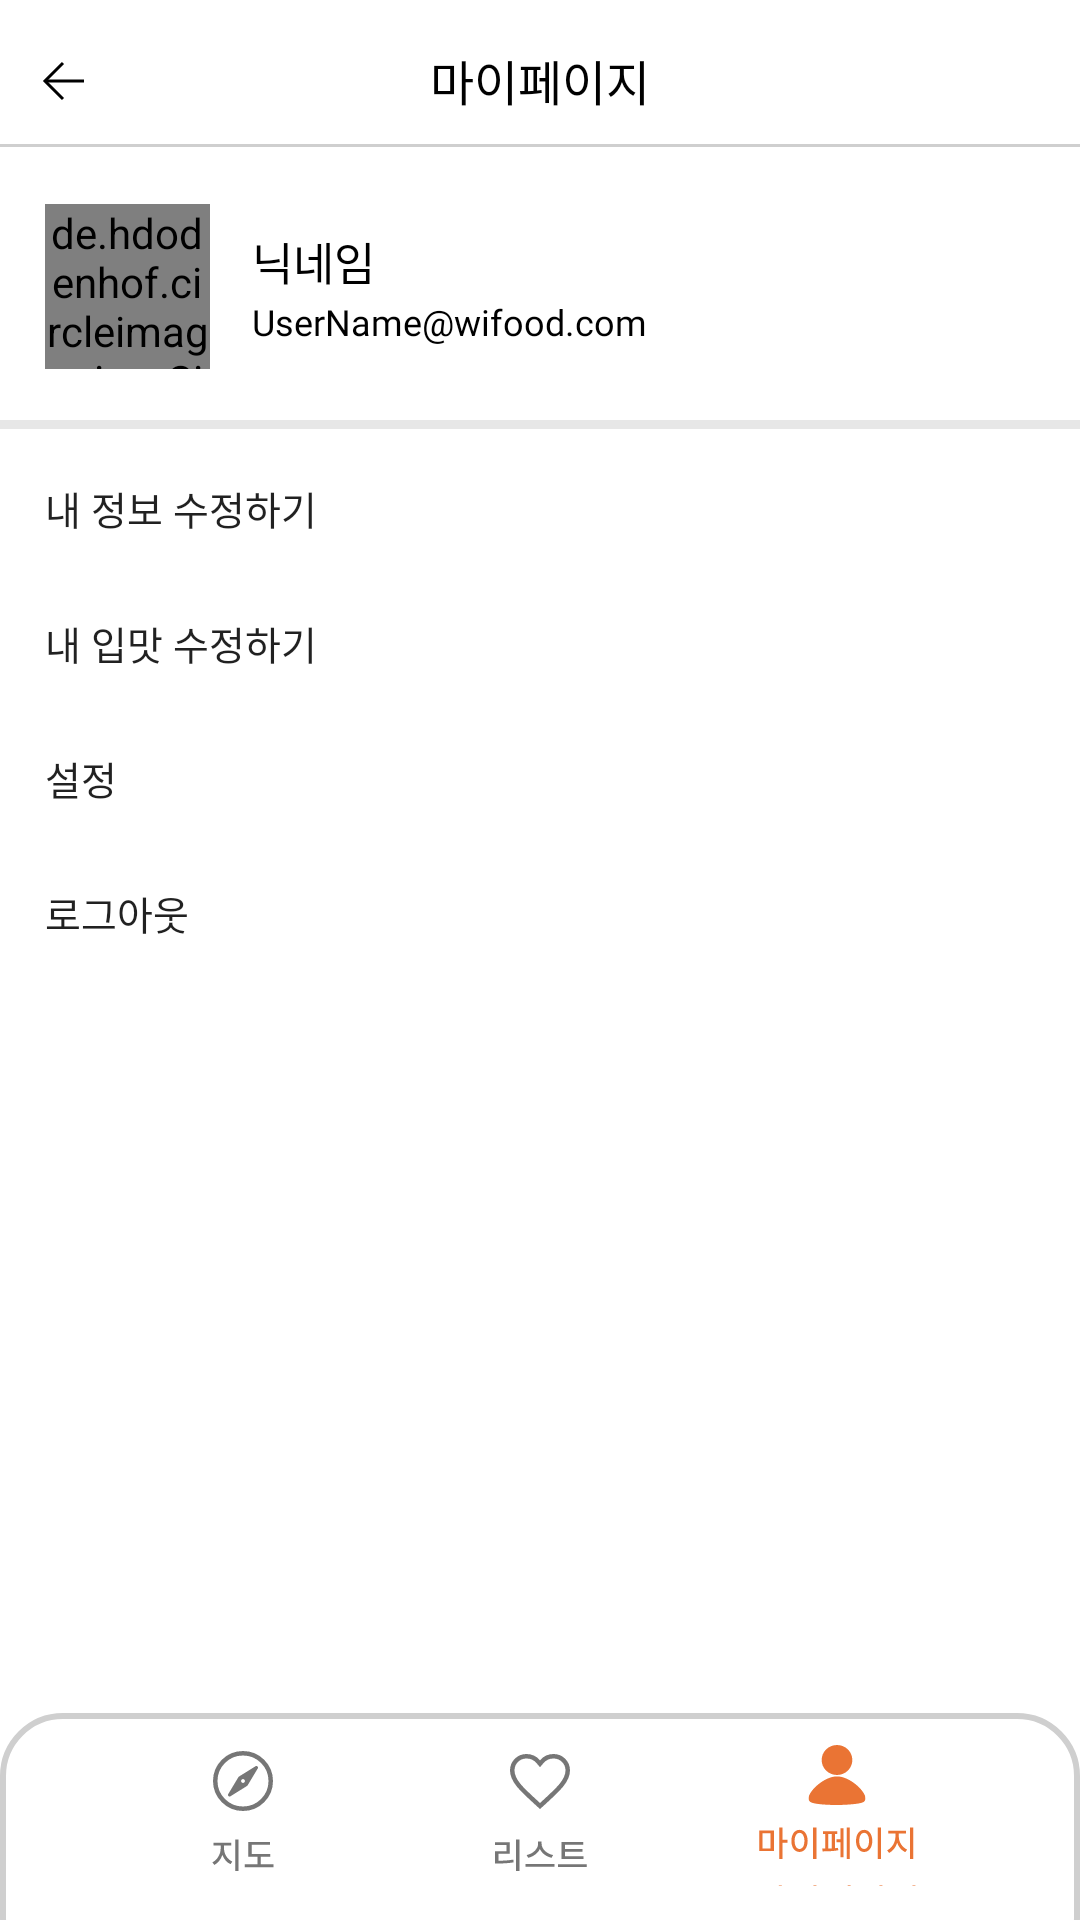

Point at icon controls on the screen. Image size 1080 × 1920, points as point (x, y).
back arrow: point (63, 81)
